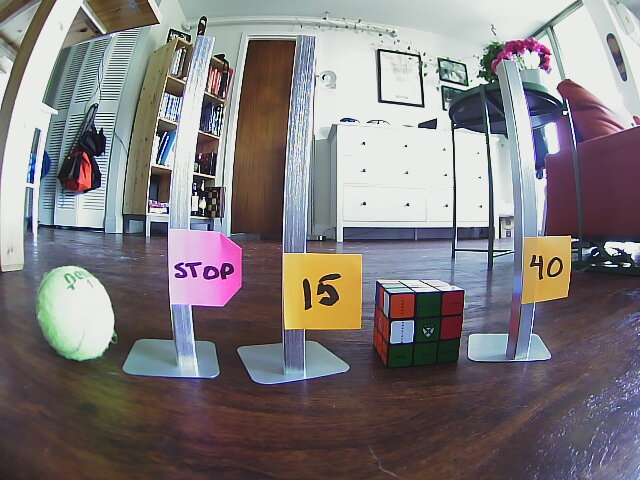15: (285, 256, 362, 327)
40: (525, 239, 569, 300)
ball: (38, 267, 113, 361)
cube: (373, 278, 463, 365)
stop: (169, 230, 238, 306)
